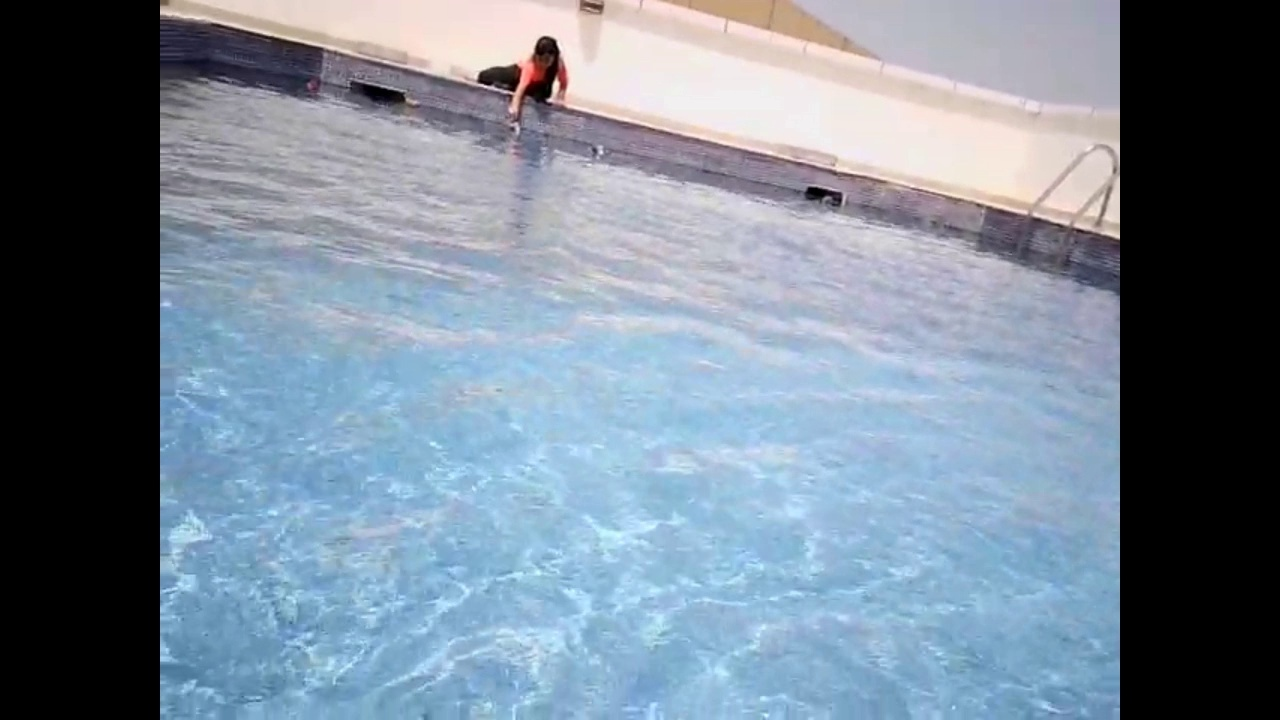debris: (586, 137, 614, 163), (398, 90, 425, 111), (819, 191, 844, 212), (502, 119, 527, 136), (300, 76, 323, 94)
